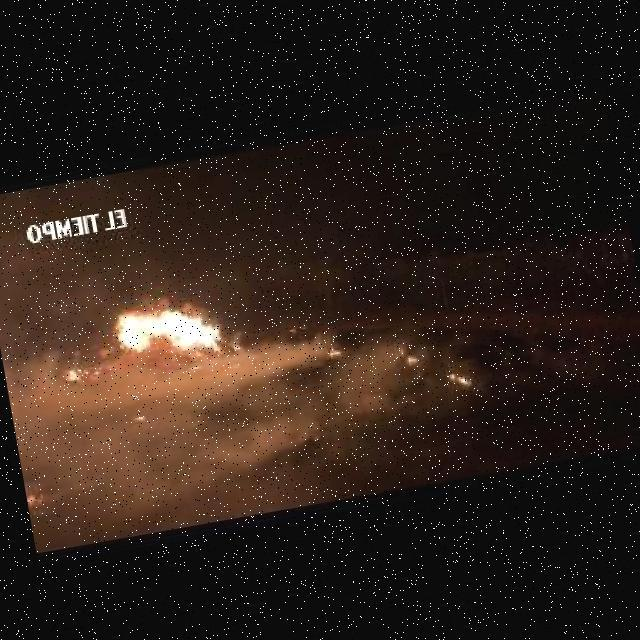Fire: (105, 287, 254, 384), (448, 369, 472, 389), (63, 365, 79, 379), (326, 341, 340, 355), (405, 352, 417, 366), (131, 410, 146, 420), (30, 490, 40, 505)
